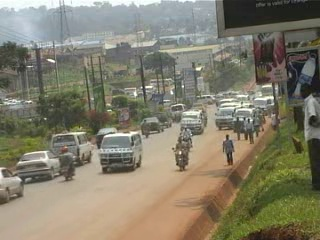Car: (15, 146, 62, 182), (0, 162, 27, 208), (93, 121, 124, 150), (139, 115, 167, 136), (152, 108, 176, 129)
Motorcycle: (169, 144, 193, 173), (60, 155, 76, 182), (179, 133, 193, 151), (141, 122, 151, 138)
